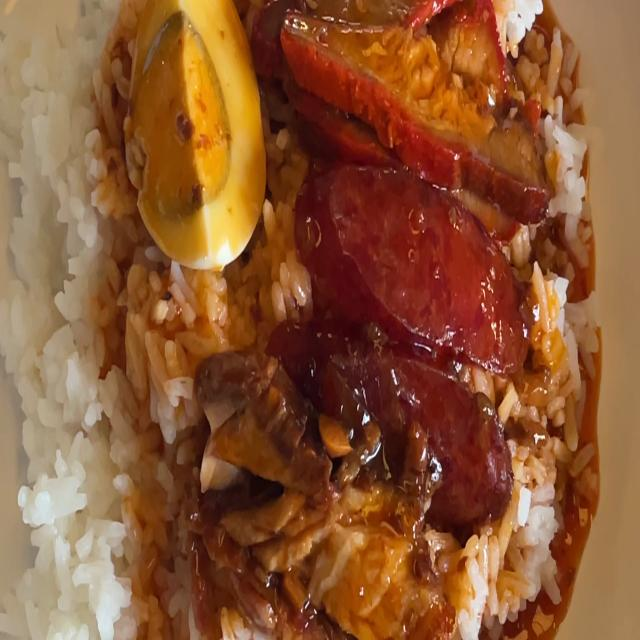01boiled_egg: (141, 0, 251, 247)
01chainese_sausage: (303, 190, 514, 484)
01crispy_pork: (207, 462, 442, 640)
01red_pork: (278, 0, 534, 188)
01red_pork_and_crispy_pork: (0, 0, 591, 640)
01rice: (5, 0, 134, 640)
